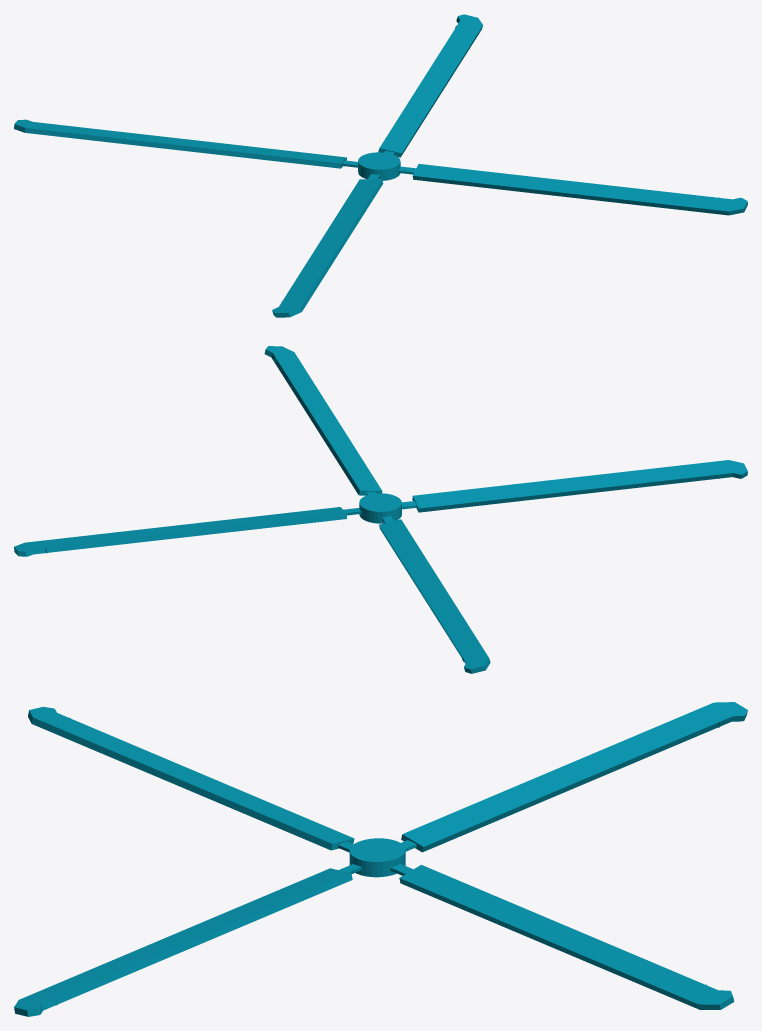
The model's file is Rotor.glb.
3 renders of one model, top to bottom at view 1: azimuth 30°, elevation 25°; view 2: azimuth 150°, elevation 25°; view 3: azimuth 270°, elevation 25°, orthographic. The views are drawn at different scales.
Parts seen in each view (by area): view 1: Mesh_Mesh_head_geo.001_lambert2SG.001; view 2: Mesh_Mesh_head_geo.001_lambert2SG.001; view 3: Mesh_Mesh_head_geo.001_lambert2SG.001.
Boxes of the visible parts, x1,y1,x2,y2 form: Mesh_Mesh_head_geo.001_lambert2SG.001: (14, 14, 747, 317); Mesh_Mesh_head_geo.001_lambert2SG.001: (14, 346, 747, 673); Mesh_Mesh_head_geo.001_lambert2SG.001: (14, 702, 747, 1016).
Size of the model in its own units: 0.0668 by 0.00153 by 0.0668.
